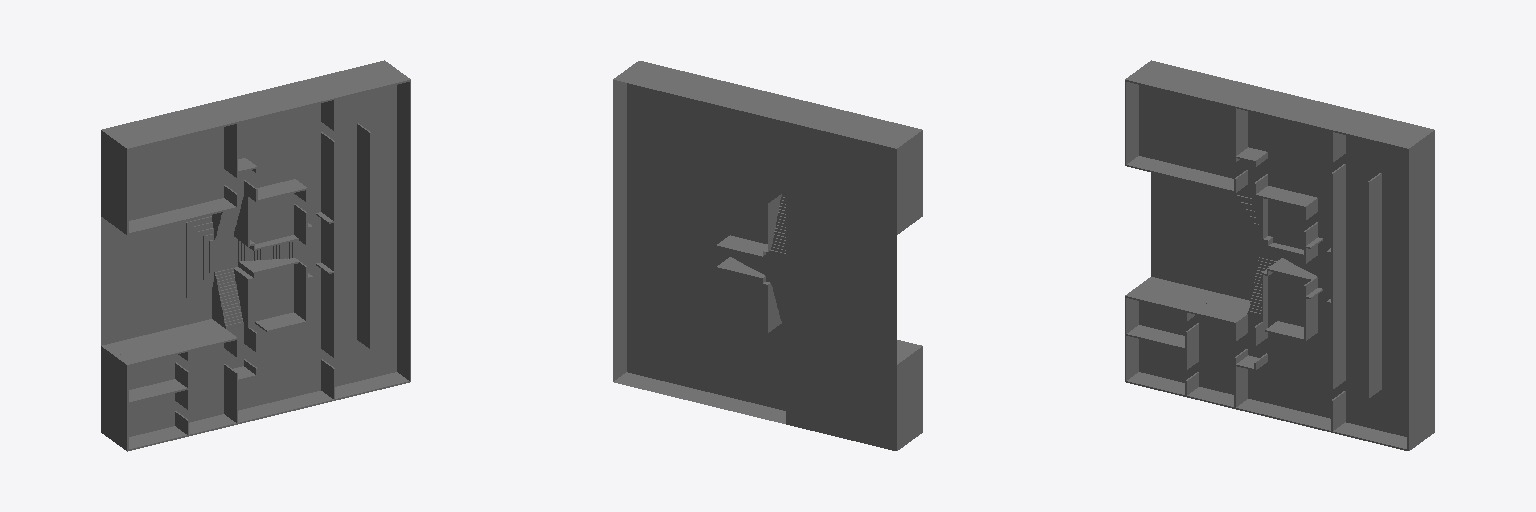
The model's file is museum_textures_tris.obj.
3 renders of one model, left to right at view 1: azimuth 30°, elevation 25°; view 2: azimuth 150°, elevation 25°; view 3: azimuth 330°, elevation 25°, orthographic.
Parts seen in each view (by area): view 1: Mesh_Planta1_Plane; view 2: Mesh_Planta1_Plane; view 3: Mesh_Planta1_Plane.
Part boxes in pixels (x1,y1,x2,y2): Mesh_Planta1_Plane: (101, 60, 410, 451); Mesh_Planta1_Plane: (613, 61, 922, 450); Mesh_Planta1_Plane: (1125, 60, 1434, 450).
Size of the model in its own units: 138 by 140 by 22.